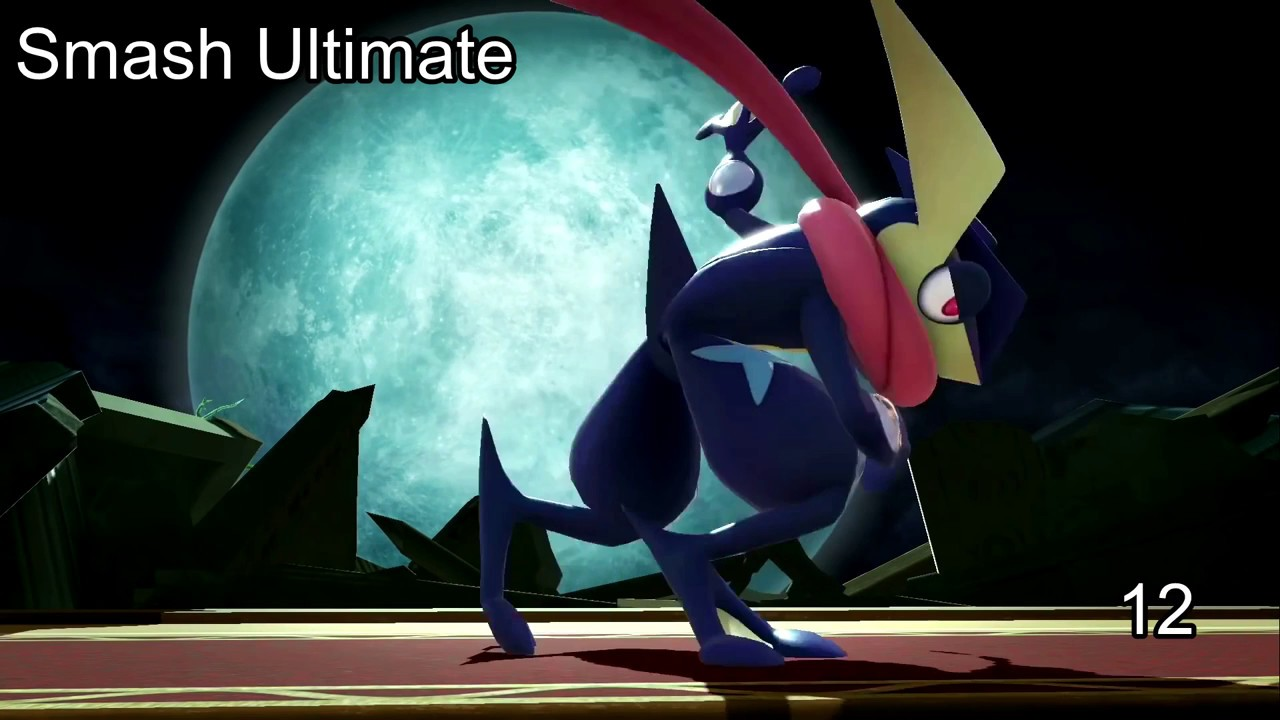greninja: (459, 1, 1035, 697)
